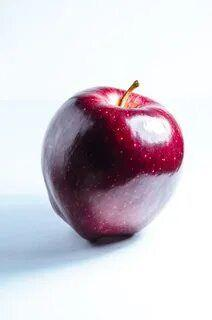Apple: (42, 89, 182, 242)
